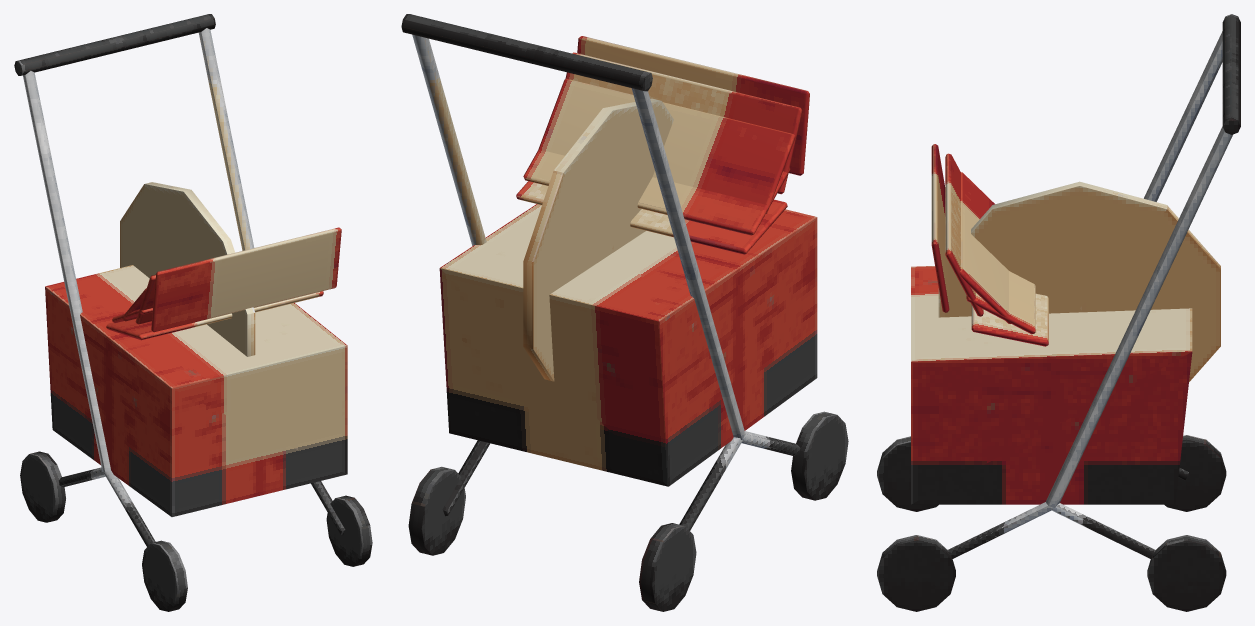
The model's file is stroller.glb.
The picture shows the model from 3 angles, left to right: view 1: azimuth 30°, elevation 25°; view 2: azimuth 150°, elevation 25°; view 3: azimuth 270°, elevation 25°; orthographic projection. The views are drawn at different scales.
Visible parts, largest first — view 1: mesh; view 2: mesh; view 3: mesh.
Part boxes in pixels (<box>): mesh: <box>14,14,372,611</box>; mesh: <box>401,14,848,611</box>; mesh: <box>877,14,1240,611</box>.
Bounding box in the file's own units: 0.4459 × 0.97 × 0.6487.
1 material, 1 textured.
